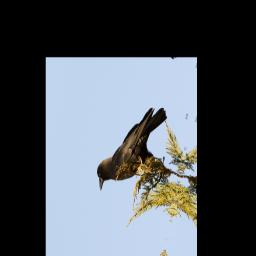Crow: (91, 91, 171, 209)
